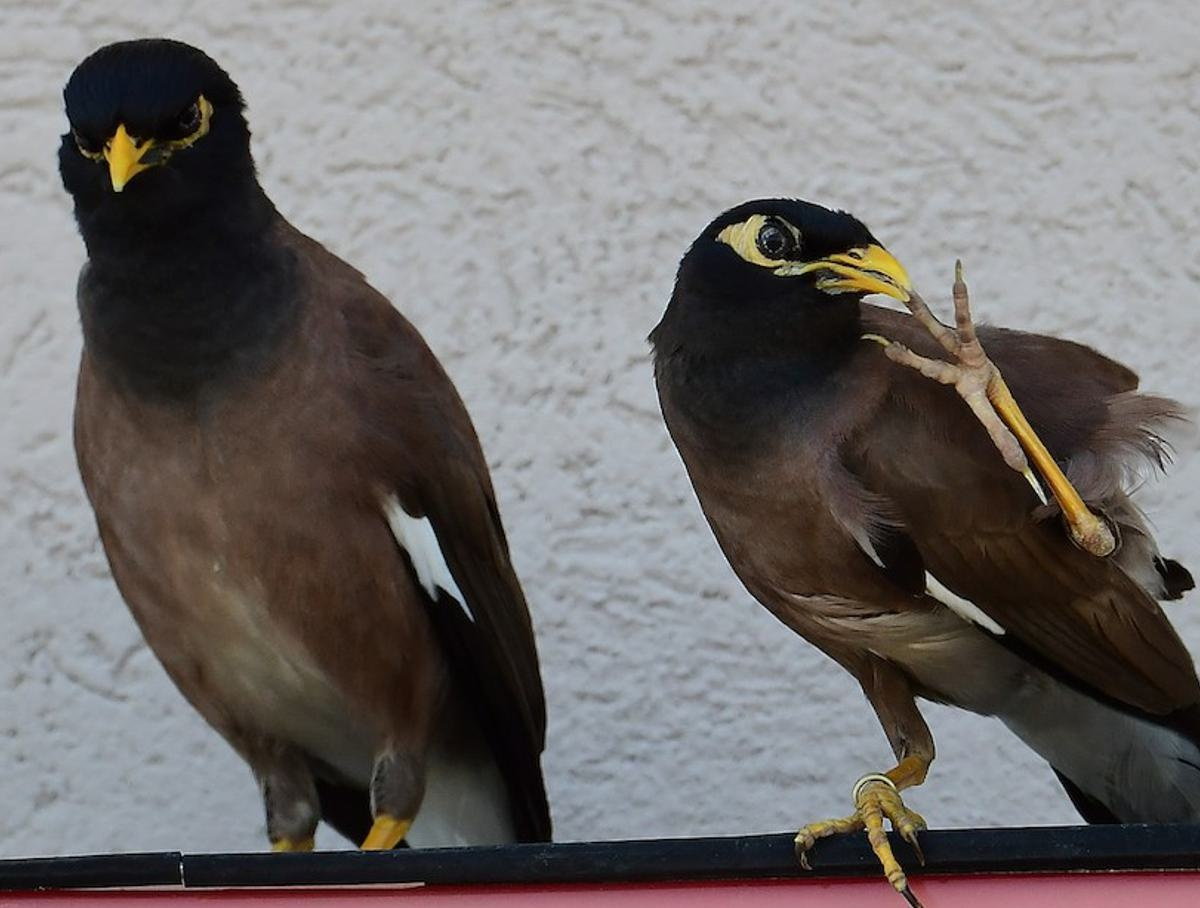myna: (33, 41, 566, 852), (643, 176, 1200, 875)
